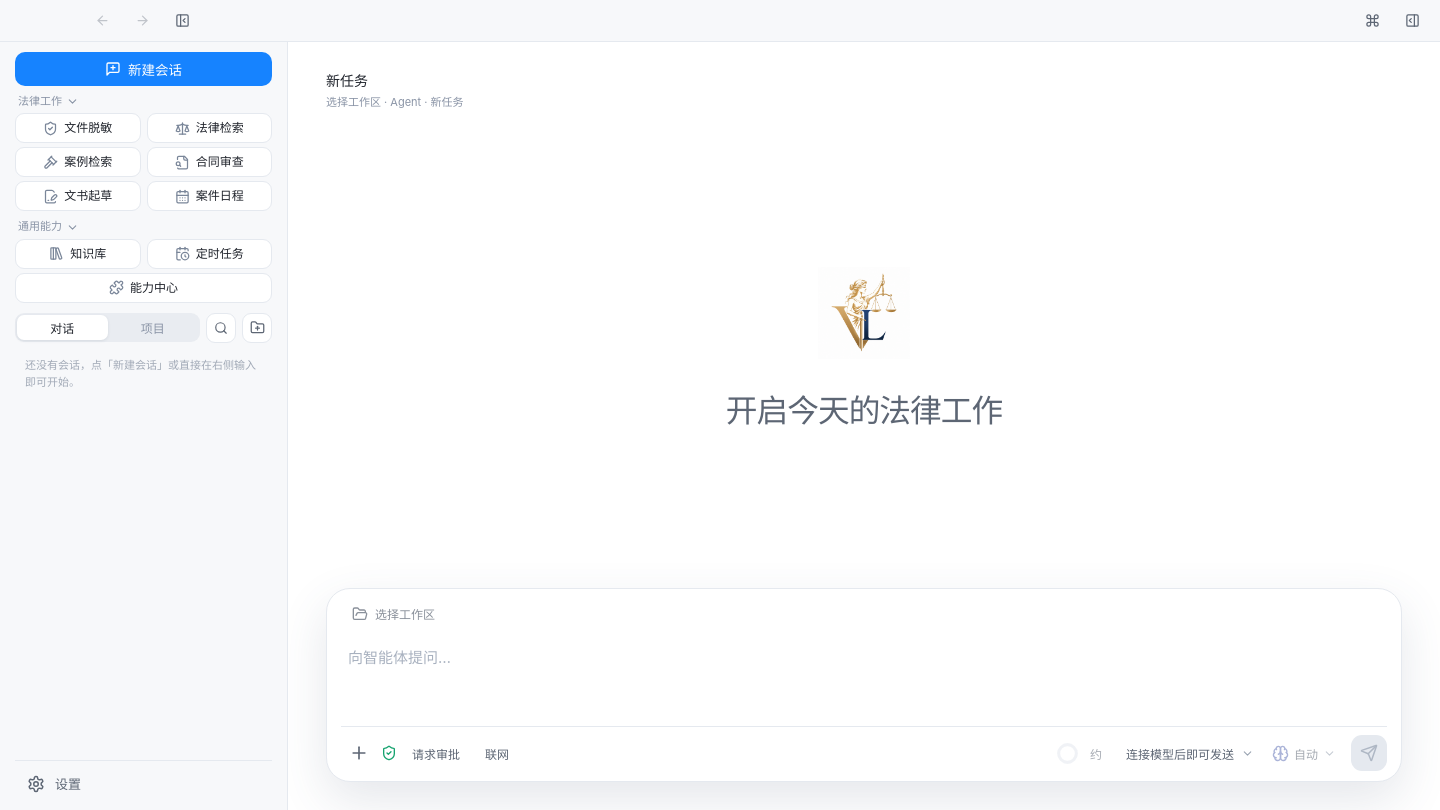
it: opens settings from the sidebar footer
This screenshot has width=1440, height=810.
Click the button "设置" at (144, 784), box [15,767,272,800]
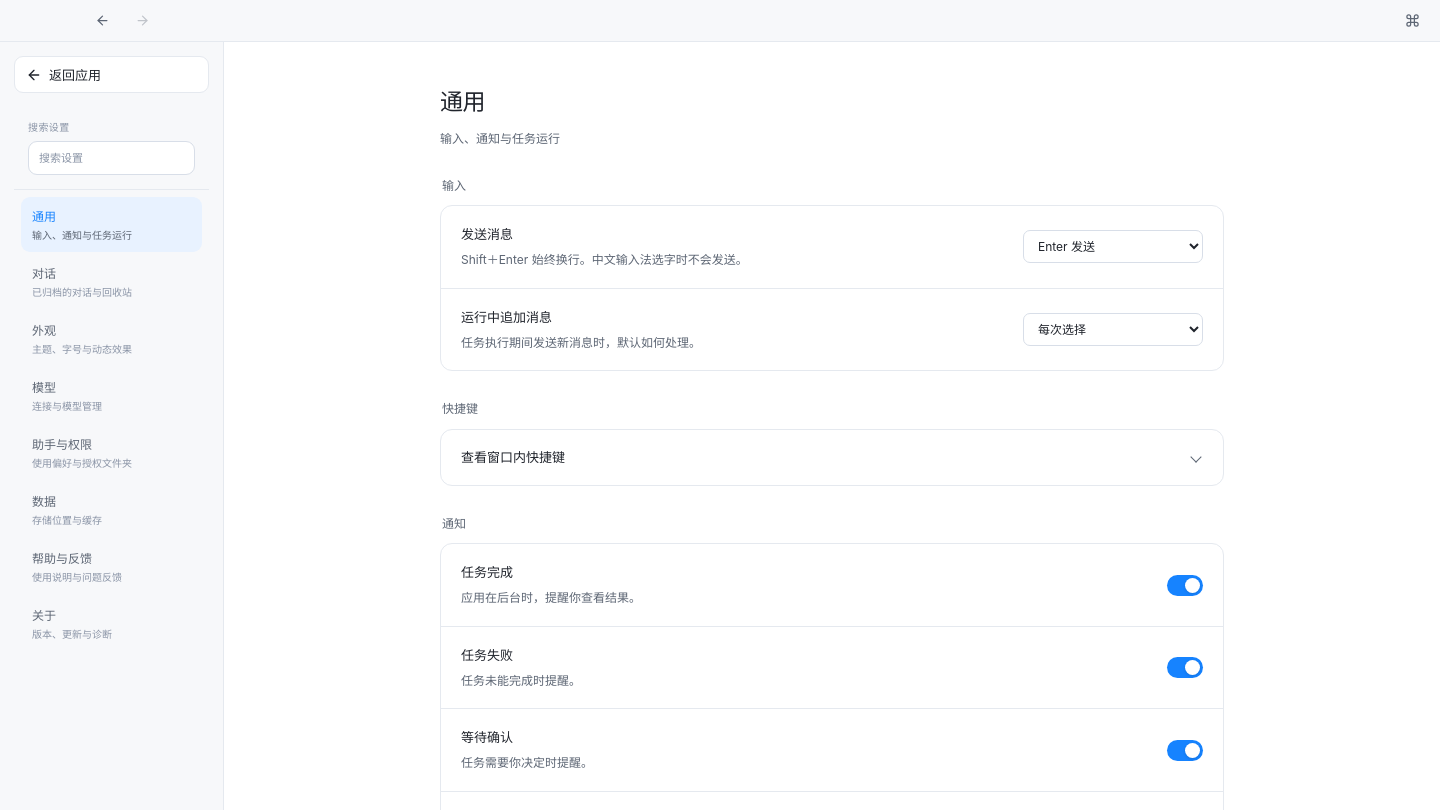
Result: the heading "通用" is shown at [440,88,485,116]
